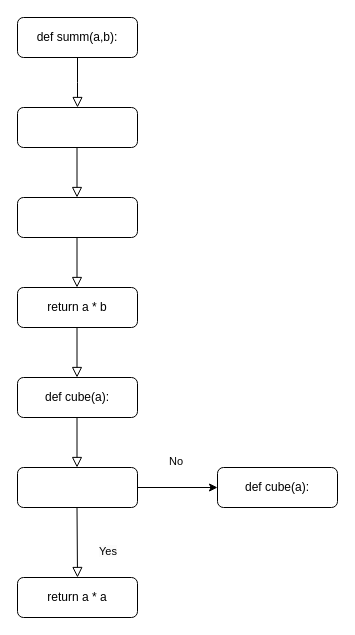
This 355x635 diagram has some shape labels left out. The shapes that lost their labels are listed below. From the top down, each one's centre as x and y in pixels, then its label:
At [77,127]: "return a + b".
At [77,217]: "def mult(a,b):".
At [77,487]: "if a >= 2:".
